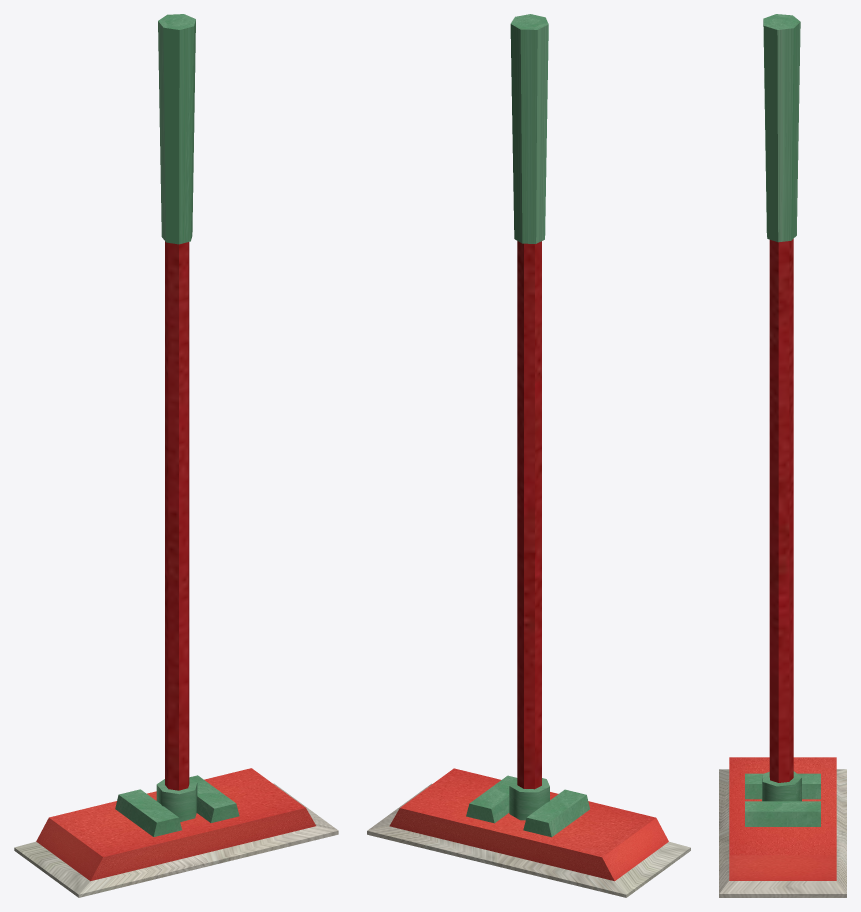
The model's file is mop1.FBX.
3 renders of one model, left to right at view 1: azimuth 30°, elevation 25°; view 2: azimuth 150°, elevation 25°; view 3: azimuth 270°, elevation 25°, orthographic.
Parts seen in each view (by area): view 1: Cylinder001, Object002, Object004, Object005, Box001, Object003, Object006, Object001; view 2: Cylinder001, Object002, Object004, Object005, Box001, Object003, Object006, Object001; view 3: Cylinder001, Object002, Object005, Object006, Object003, Object004, Box001, Object001.
Boxes of the visible parts, x1=… form: Cylinder001: x1=165, y1=241, x2=189, y2=790; Object002: x1=158, y1=14, x2=195, y2=244; Object004: x1=36, y1=793, x2=204, y2=881; Object005: x1=150, y1=768, x2=315, y2=853; Box001: x1=14, y1=841, x2=208, y2=897; Object003: x1=115, y1=775, x2=239, y2=836; Object006: x1=204, y1=783, x2=338, y2=865; Object001: x1=156, y1=779, x2=197, y2=821; Cylinder001: x1=517, y1=241, x2=541, y2=789; Object002: x1=510, y1=14, x2=548, y2=243; Object004: x1=501, y1=793, x2=668, y2=881; Object005: x1=389, y1=768, x2=554, y2=853; Box001: x1=496, y1=841, x2=690, y2=897; Object003: x1=466, y1=775, x2=589, y2=837; Object006: x1=367, y1=783, x2=501, y2=866; Object001: x1=509, y1=778, x2=549, y2=820; Cylinder001: x1=769, y1=239, x2=793, y2=782; Object002: x1=763, y1=14, x2=800, y2=242; Object005: x1=729, y1=806, x2=836, y2=880; Object006: x1=719, y1=826, x2=846, y2=897; Object003: x1=745, y1=773, x2=820, y2=826; Object004: x1=729, y1=757, x2=836, y2=806; Box001: x1=719, y1=769, x2=846, y2=831; Object001: x1=762, y1=771, x2=801, y2=801.
Size of the model in its own units: 67.03 by 202 by 28.83.
Materials: 4 (4 with a texture image).
